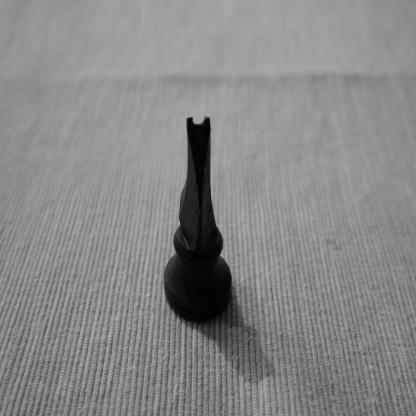black-knight: (163, 115, 233, 322)
